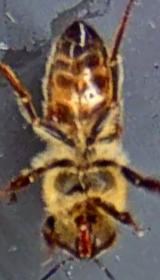varroa_mite: (34, 98, 80, 139)
